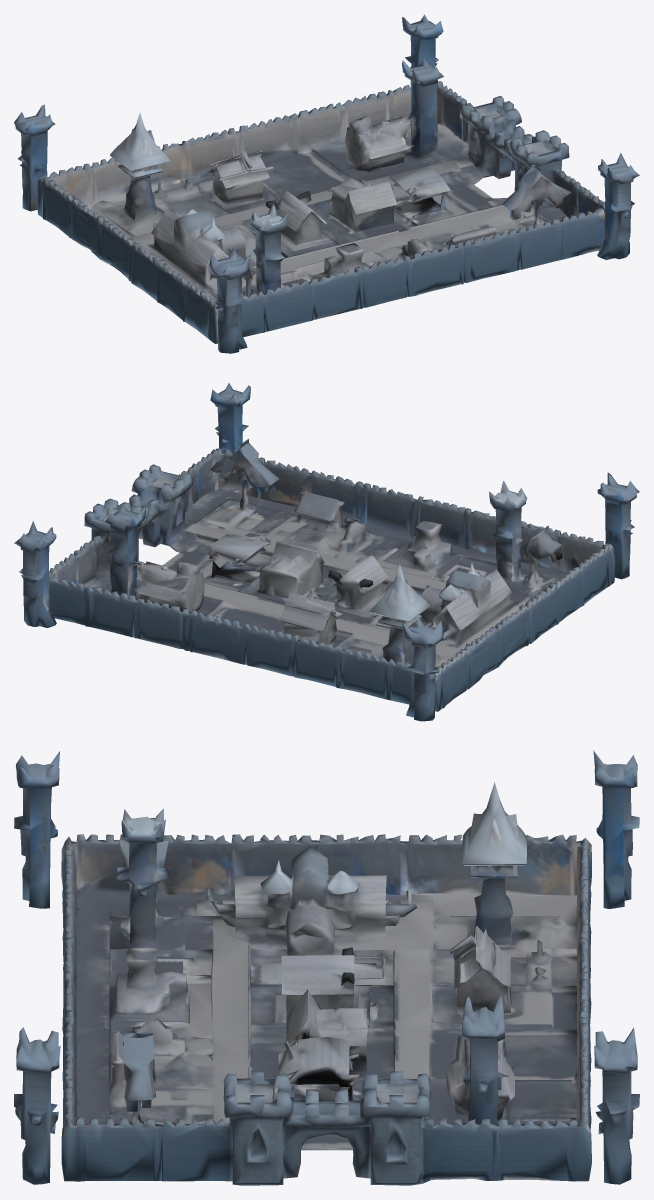
The model's file is medievalBarracks.fbx.
3 views of the same model, one above another, from view 1: azimuth 30°, elevation 25°; view 2: azimuth 150°, elevation 25°; view 3: azimuth 270°, elevation 25° (orthographic). The views are drawn at different scales.
Parts seen in each view (by area): view 1: tripo_node_375d01b7; view 2: tripo_node_375d01b7; view 3: tripo_node_375d01b7.
Part boxes in pixels (bbox=[...]): tripo_node_375d01b7: bbox=[14, 14, 639, 353]; tripo_node_375d01b7: bbox=[14, 383, 639, 721]; tripo_node_375d01b7: bbox=[14, 750, 639, 1185].
Bounding box in the file's own units: 1 × 0.2494 × 0.8758.
1 material, 1 textured.
